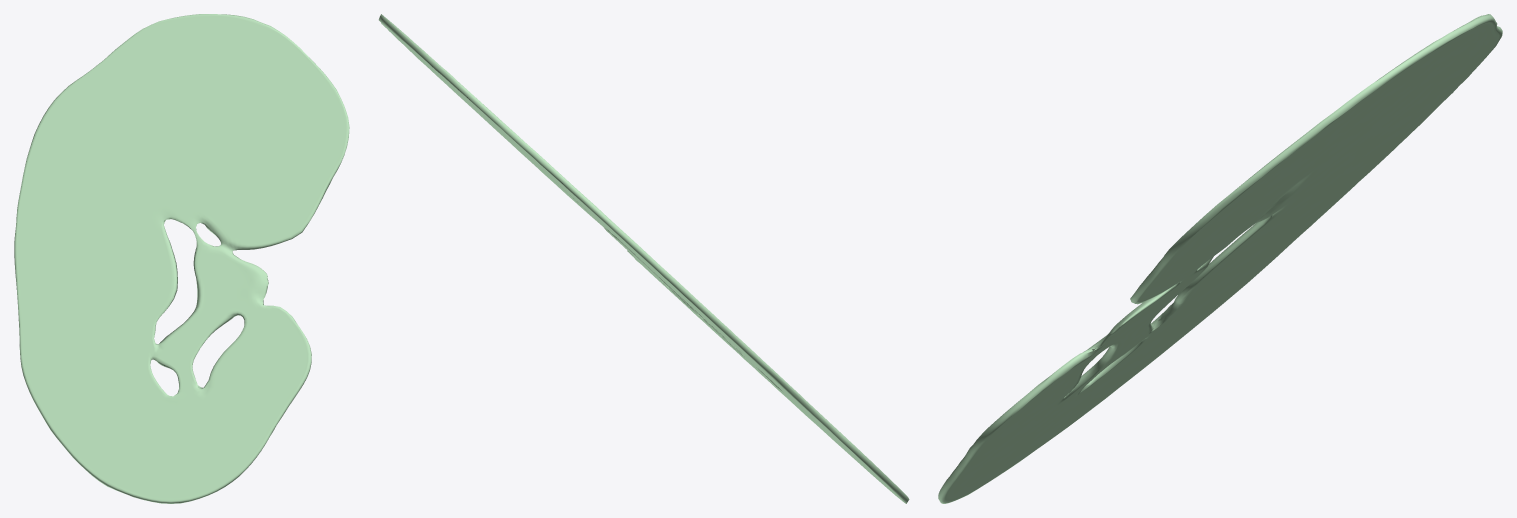
The model's file is VHF_Kidney_R_Extraction_Site.glb.
The picture shows the model from 3 angles, left to right: view 1: azimuth 30°, elevation 25°; view 2: azimuth 150°, elevation 25°; view 3: azimuth 270°, elevation 25°; orthographic projection. The views are drawn at different scales.
Visible parts, largest first — view 1: VHF_Kidney_R_Extraction_Site; view 2: VHF_Kidney_R_Extraction_Site; view 3: VHF_Kidney_R_Extraction_Site.
Boxes of the visible parts, x1,y1,x2,y2 form: VHF_Kidney_R_Extraction_Site: (14,14,349,503); VHF_Kidney_R_Extraction_Site: (378,14,909,503); VHF_Kidney_R_Extraction_Site: (938,14,1502,503).
Size of the model in its own units: 0.8682 by 0.9196 by 0.7869.
